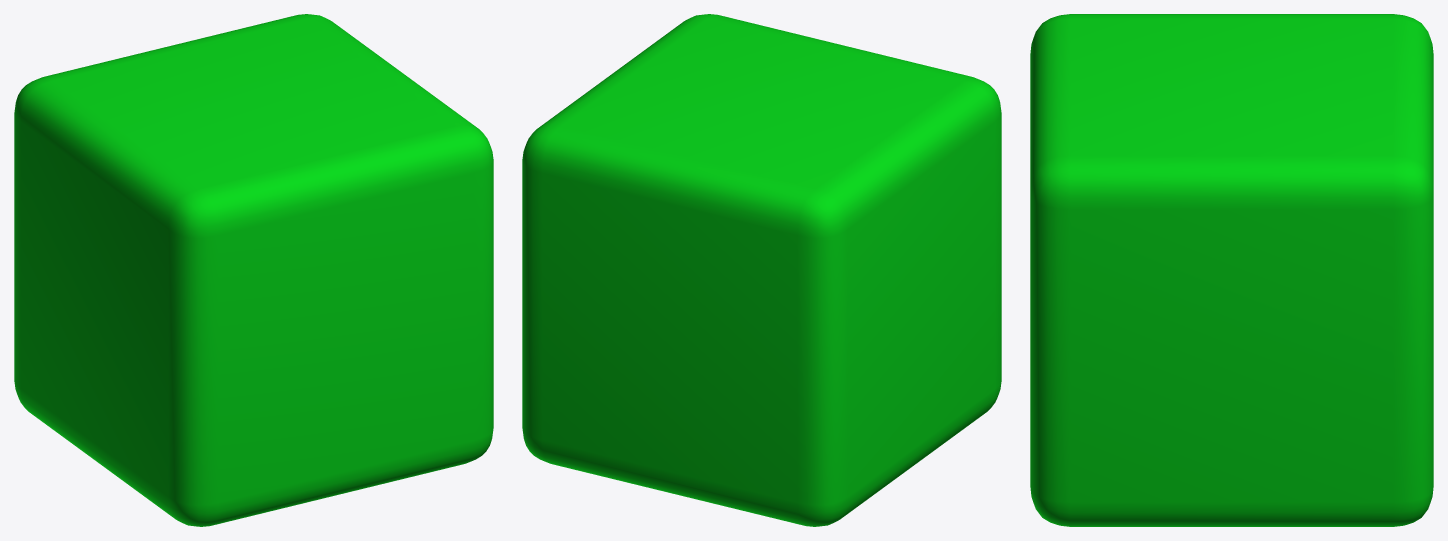
The picture shows the model from 3 angles, left to right: view 1: azimuth 30°, elevation 25°; view 2: azimuth 150°, elevation 25°; view 3: azimuth 270°, elevation 25°; orthographic projection. The views are drawn at different scales.
Visible parts, largest first — view 1: Box041; view 2: Box041; view 3: Box041.
Boxes of the visible parts, x1=… form: Box041: x1=14, y1=14, x2=493, y2=526; Box041: x1=522, y1=14, x2=1001, y2=526; Box041: x1=1030, y1=14, x2=1433, y2=526.
Size of the model in its own units: 10 by 10 by 10.
